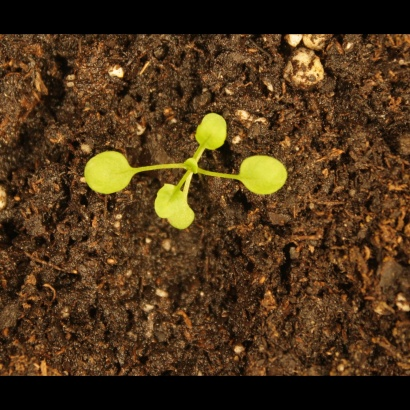leaf: (236, 152, 291, 200), (83, 151, 137, 196), (194, 111, 231, 152), (153, 183, 186, 220), (168, 200, 198, 233)
